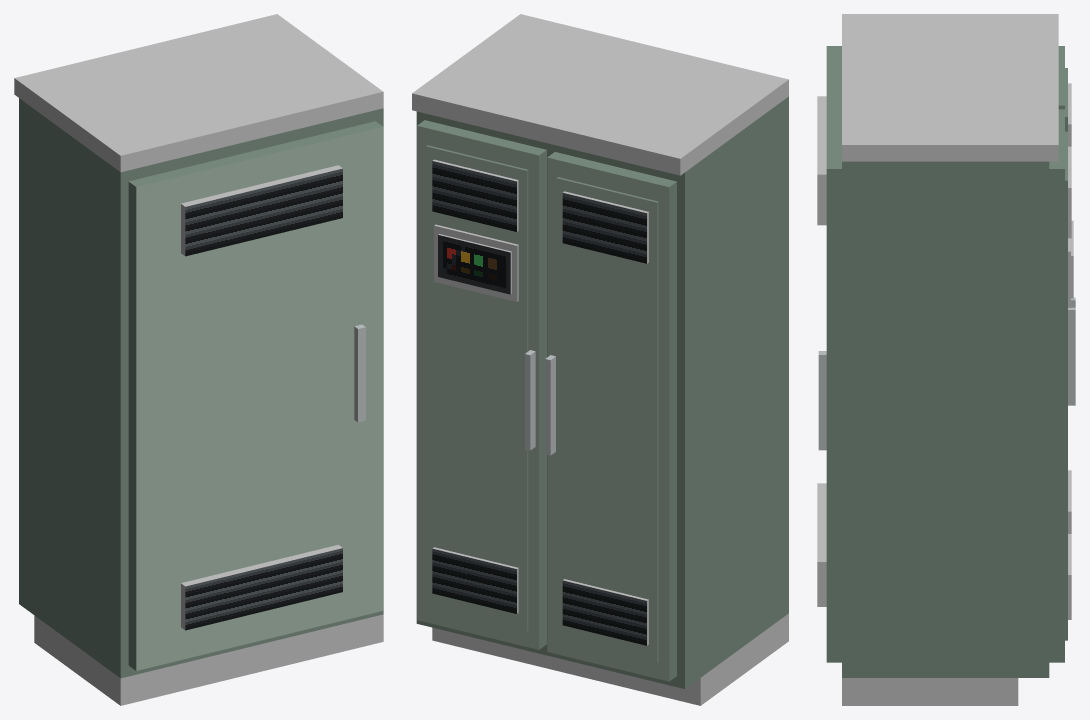
The model's file is cabinet_item.obj.
3 views of the same model, side by side, from view 1: azimuth 30°, elevation 25°; view 2: azimuth 150°, elevation 25°; view 3: azimuth 270°, elevation 25° (orthographic). The views are drawn at different scales.
Parts seen in each view (by area): view 1: cabinet_item; view 2: cabinet_item; view 3: cabinet_item.
Boxes of the visible parts, box(x1,y1,x2,y2) form: cabinet_item: box(14, 14, 383, 705); cabinet_item: box(412, 14, 788, 705); cabinet_item: box(817, 14, 1075, 705).
Size of the model in its own units: 1 by 2 by 0.835.
